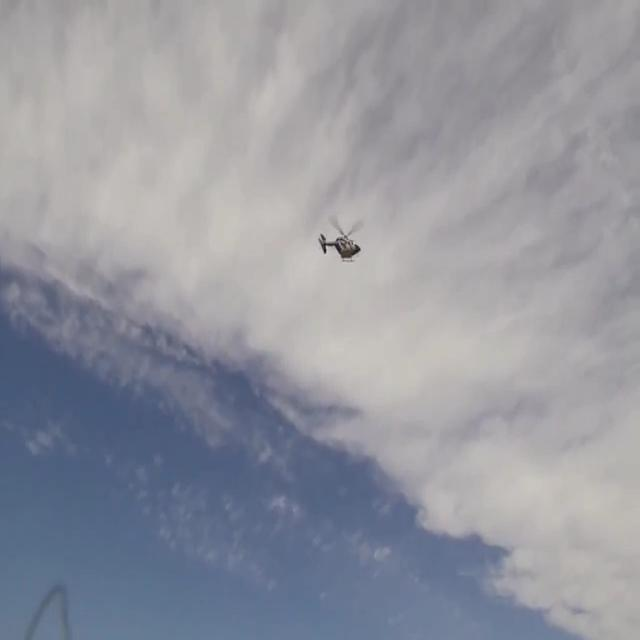Helicopter: (309, 203, 371, 278)
